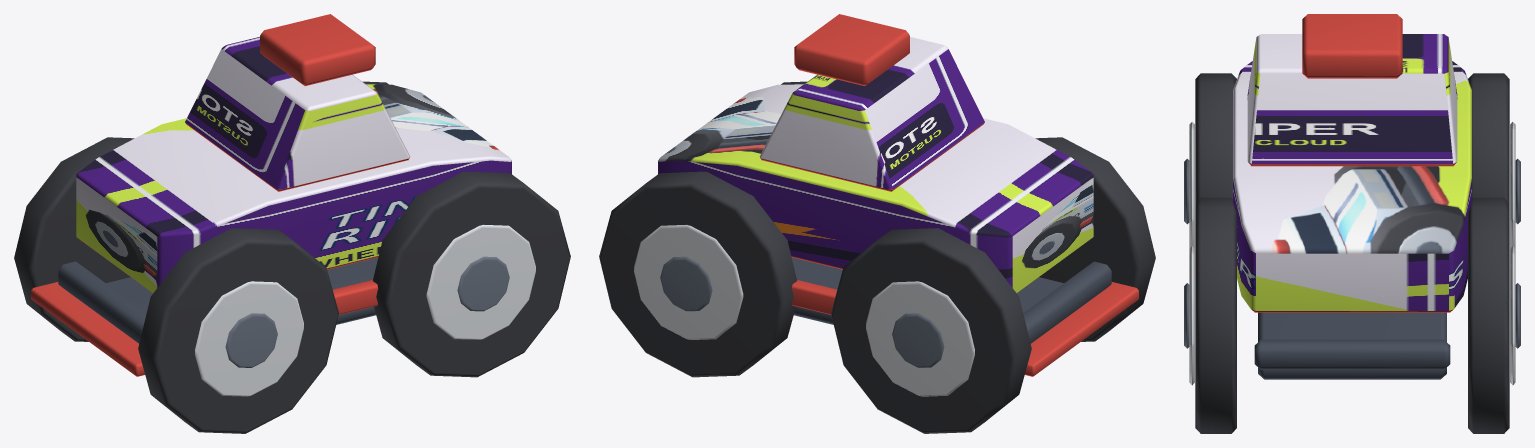
The picture shows the model from 3 angles, left to right: view 1: azimuth 30°, elevation 25°; view 2: azimuth 150°, elevation 25°; view 3: azimuth 270°, elevation 25°; orthographic projection. The views are drawn at different scales.
Parts seen in each view (by area): view 1: BW-03_connected_shell, Tire, Tire.002, BW-03_cabin, Tire.001, Rim.002, Rim, custom equipment, custom chin, front bumper, Hub.002, Hub (+2 smaller); view 2: BW-03_connected_shell, Tire.001, Tire.003, BW-03_cabin, Tire, Rim.003, Rim.001, custom equipment, custom chin, front bumper, Hub.003, Hub.001 (+2 smaller); view 3: BW-03_connected_shell, BW-03_cabin, Tire.002, Tire.003, underbody, custom equipment, rear bumper, Tire, Tire.001, Rim.002, Rim.003, Rim (+5 smaller).
Part boxes in pixels (x1=…): BW-03_connected_shell: x1=76, y1=84, x2=511, y2=292; Tire: x1=138, y1=228, x2=338, y2=433; Tire.002: x1=373, y1=171, x2=570, y2=377; BW-03_cabin: x1=185, y1=37, x2=410, y2=191; Tire.001: x1=14, y1=137, x2=134, y2=341; Rim.002: x1=426, y1=224, x2=535, y2=339; Rim: x1=195, y1=281, x2=303, y2=396; custom equipment: x1=260, y1=14, x2=375, y2=85; custom chin: x1=31, y1=282, x2=144, y2=376; front bumper: x1=58, y1=261, x2=146, y2=343; Hub.002: x1=457, y1=256, x2=509, y2=311; Hub: x1=225, y1=313, x2=277, y2=367; BW-03_connected_shell: x1=658, y1=84, x2=1093, y2=292; Tire.001: x1=831, y1=228, x2=1031, y2=433; Tire.003: x1=599, y1=171, x2=796, y2=377; BW-03_cabin: x1=759, y1=37, x2=984, y2=191; Tire: x1=1035, y1=137, x2=1155, y2=341; Rim.003: x1=634, y1=224, x2=743, y2=339; Rim.001: x1=866, y1=281, x2=974, y2=396; custom equipment: x1=794, y1=14, x2=909, y2=85; custom chin: x1=1025, y1=282, x2=1138, y2=376; front bumper: x1=1023, y1=261, x2=1111, y2=343; Hub.003: x1=660, y1=256, x2=712, y2=311; Hub.001: x1=892, y1=313, x2=944, y2=367; BW-03_connected_shell: x1=1233, y1=61, x2=1471, y2=312; BW-03_cabin: x1=1247, y1=34, x2=1457, y2=166; Tire.002: x1=1195, y1=197, x2=1236, y2=433; Tire.003: x1=1468, y1=197, x2=1509, y2=433; underbody: x1=1258, y1=312, x2=1446, y2=379; custom equipment: x1=1302, y1=14, x2=1402, y2=78; rear bumper: x1=1254, y1=339, x2=1450, y2=369; Tire: x1=1195, y1=73, x2=1236, y2=202; Tire.001: x1=1468, y1=73, x2=1509, y2=202; Rim.002: x1=1189, y1=246, x2=1194, y2=385; Rim.003: x1=1510, y1=246, x2=1515, y2=385; Rim: x1=1189, y1=122, x2=1194, y2=248.
Bounding box in the file's own units: 332 × 236 × 210.
